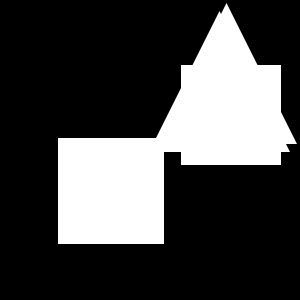circle: (58, 138, 164, 244), (181, 65, 281, 165)
triangle: (149, 11, 290, 152), (156, 3, 297, 144)
